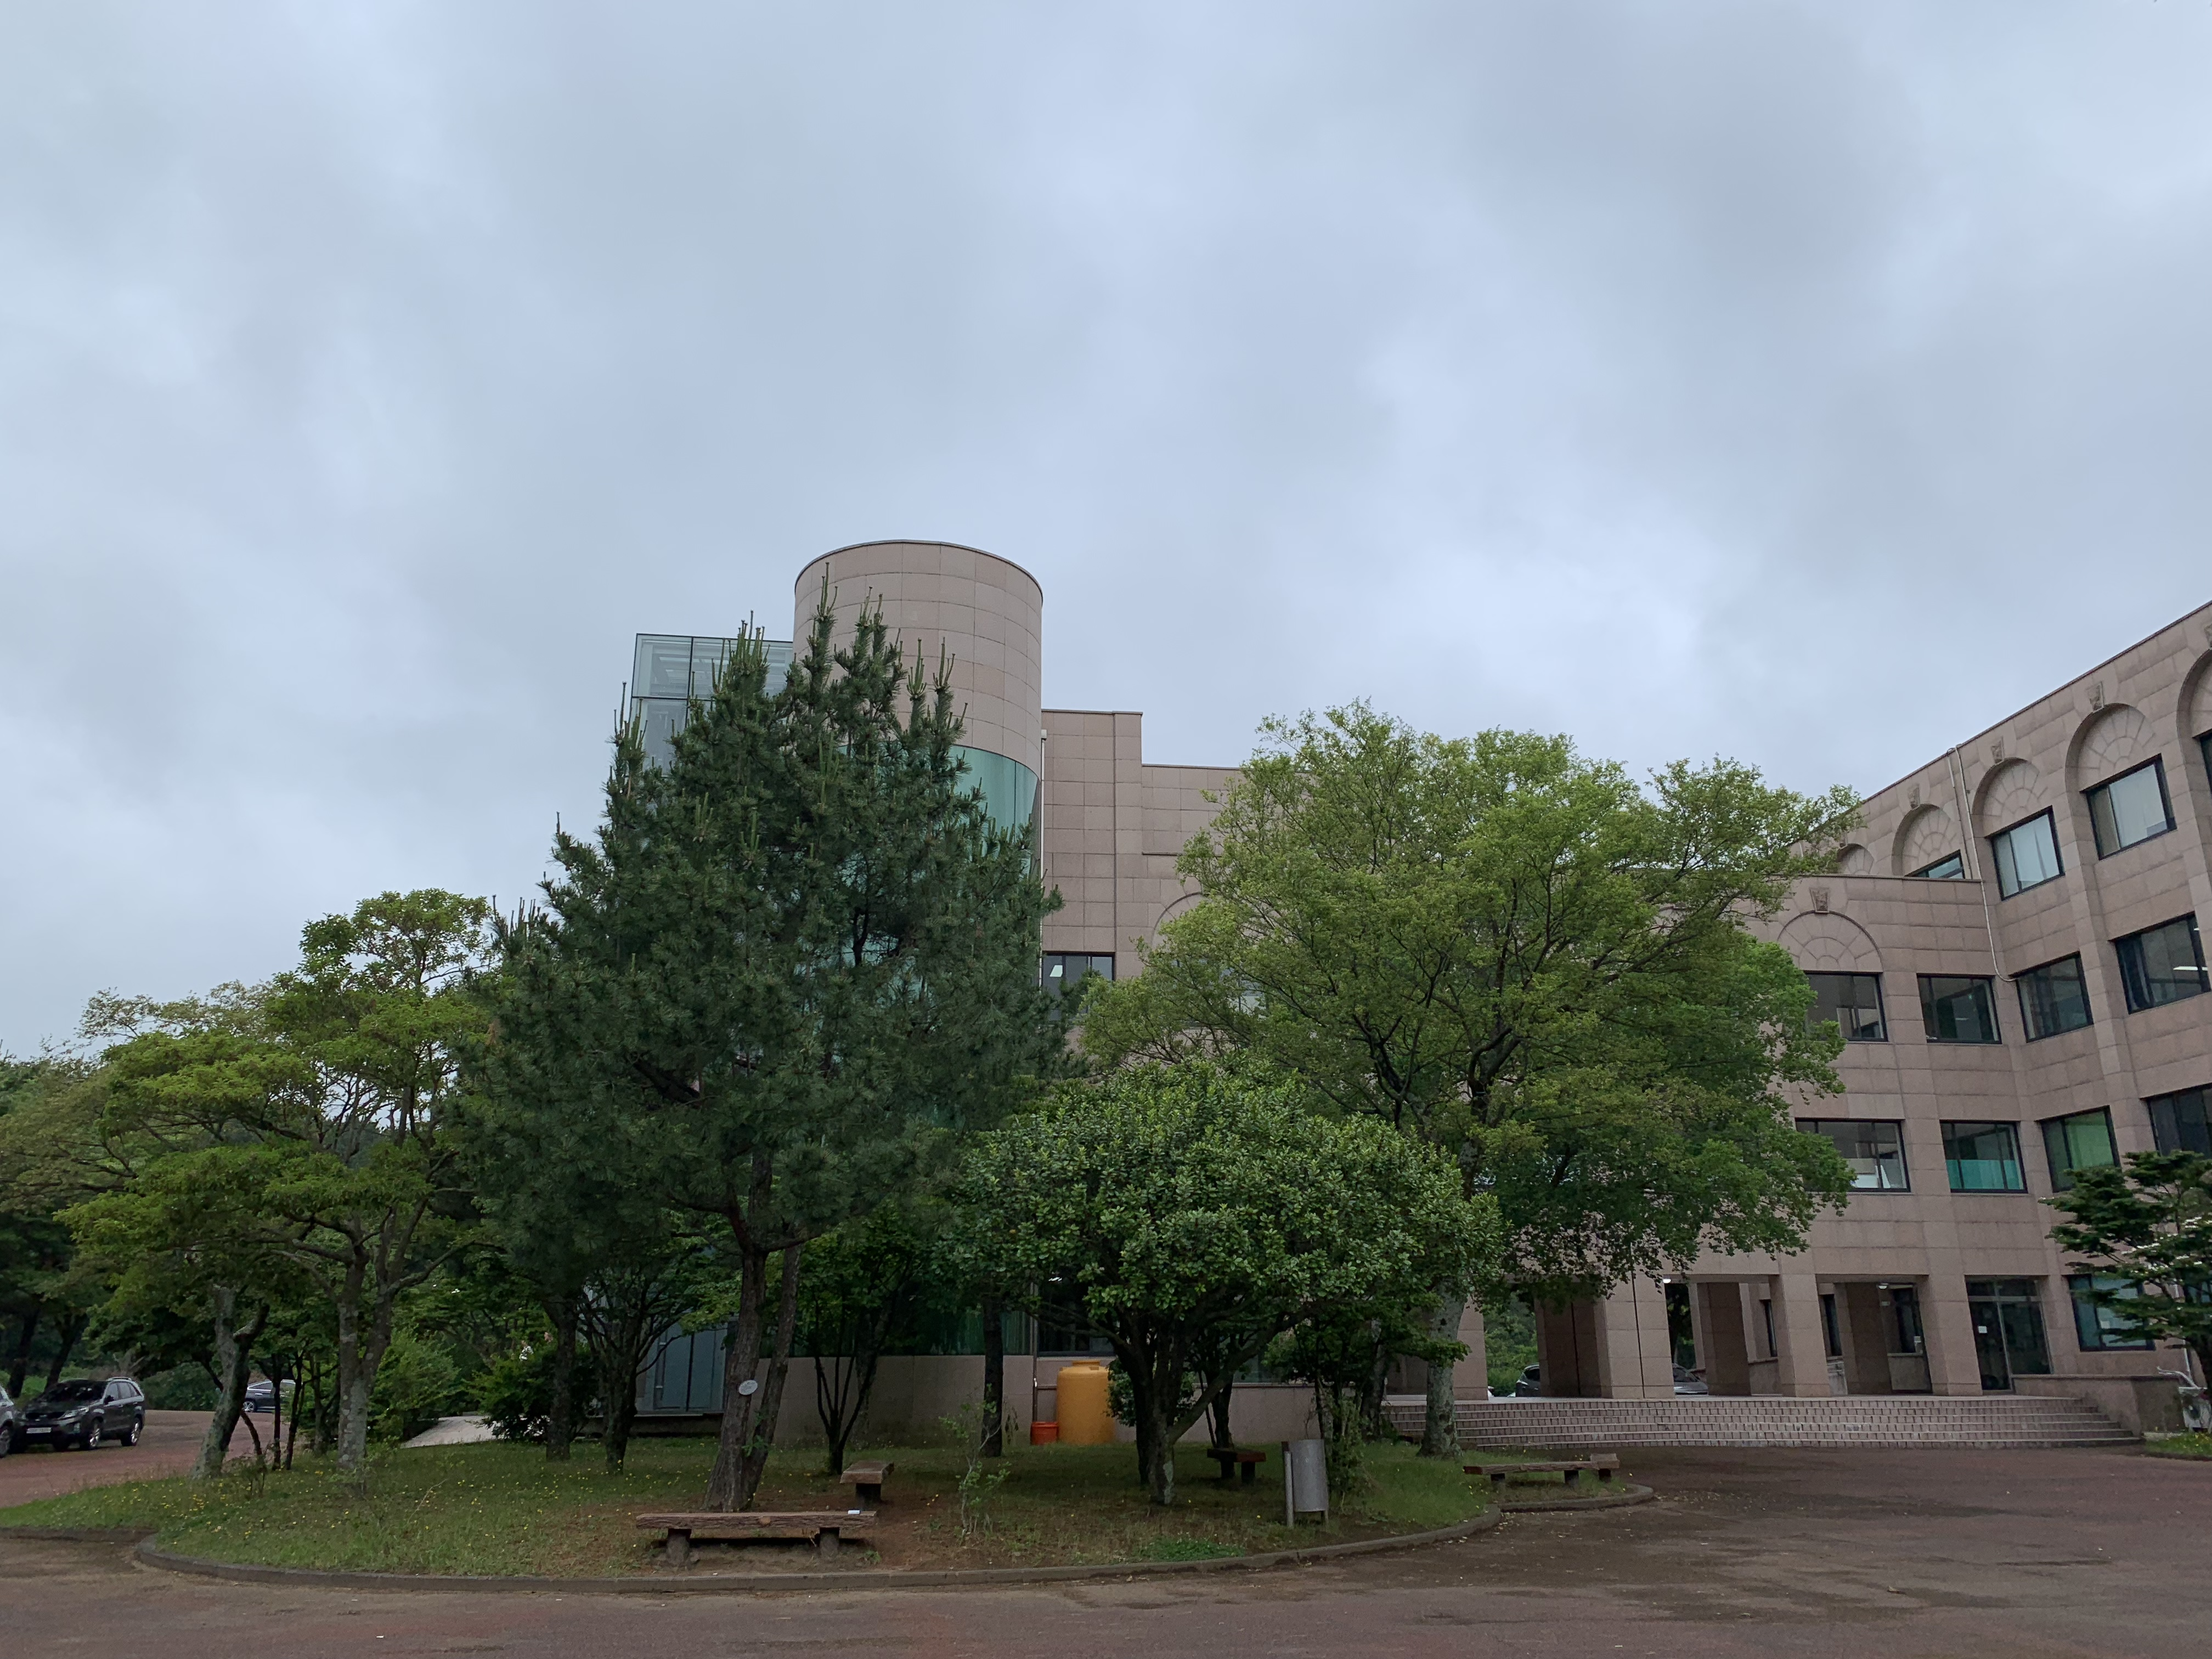Joint Experimental Labs: (651, 505, 1256, 958)
Natural Science2: (1911, 657, 2212, 1446)
